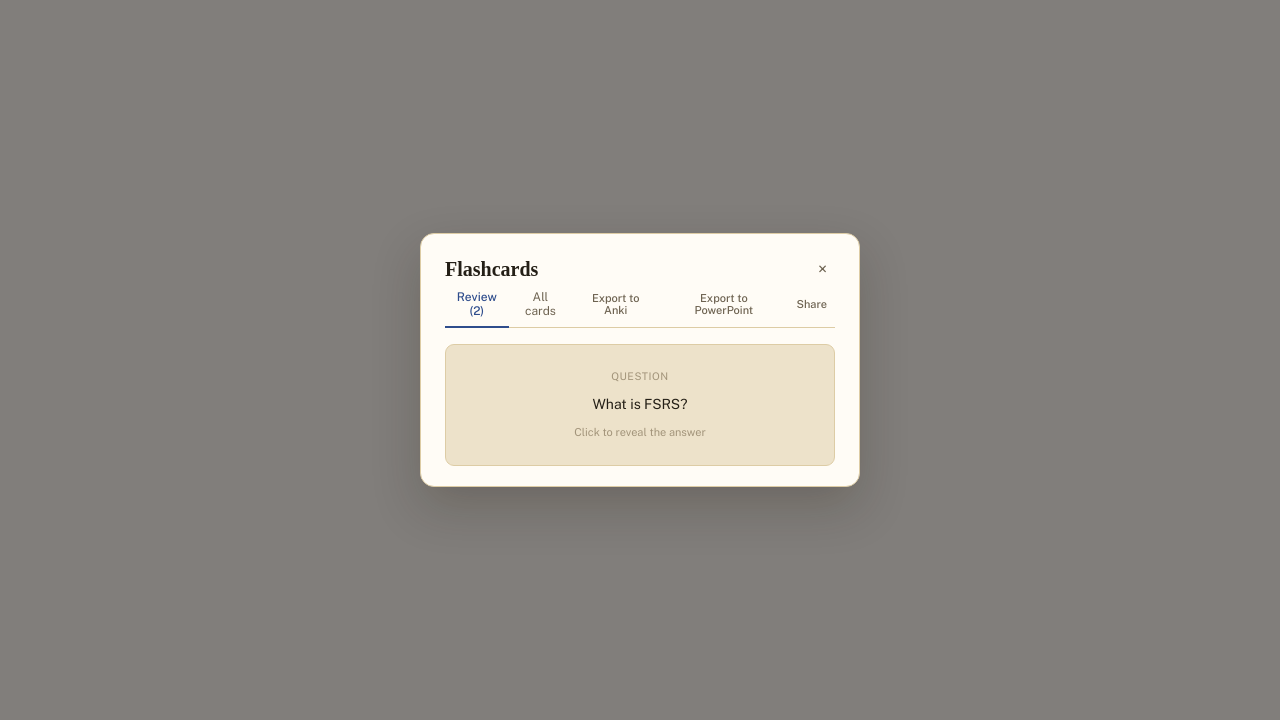
Test: FlashcardsPanel › the All cards tab lists every card regardless of due date, and delete removes it
Expected: the text "What is FSRS?" is shown, [592,393,688,416]
Click the button "All cards": (540, 306) [513,284,568,328]
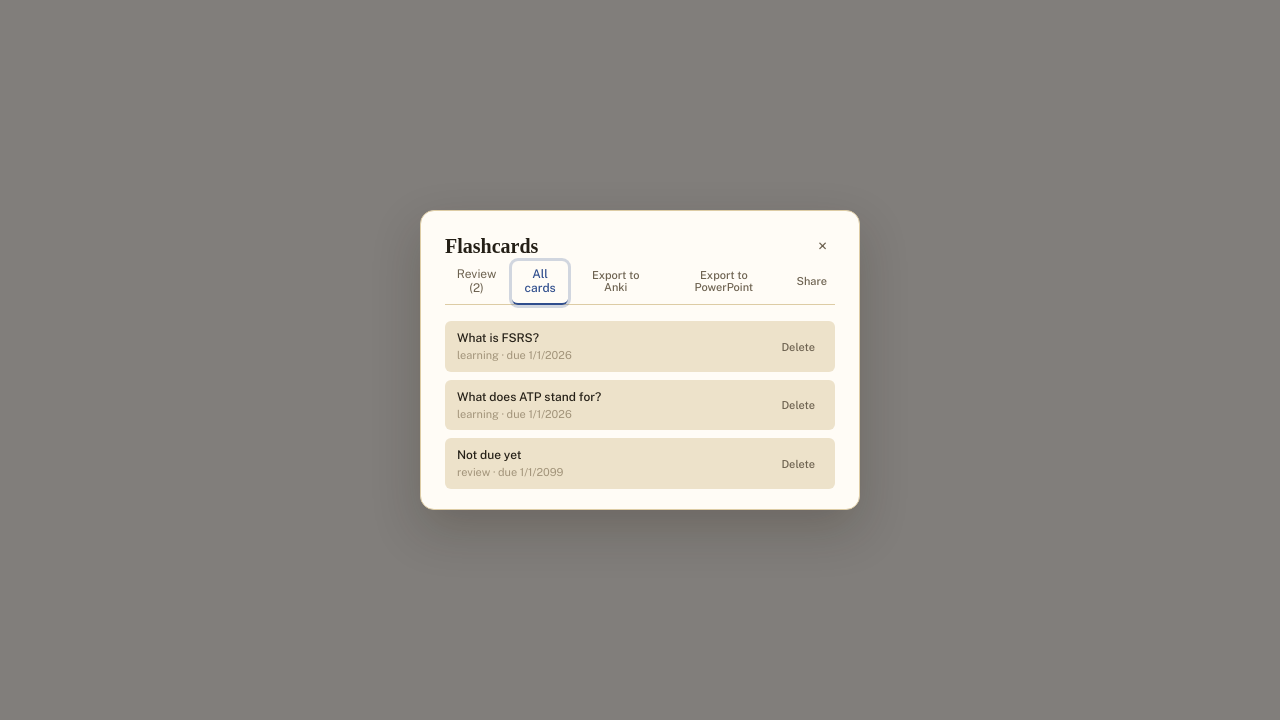
Expected: the text "What is FSRS?" is shown, [457,331,539,345]
Now the text "Not due yet" is shown, box [457,448,522,462]
Click the button with aria-label "delete flashcard: not due yet": (798, 464) [773,454,823,474]
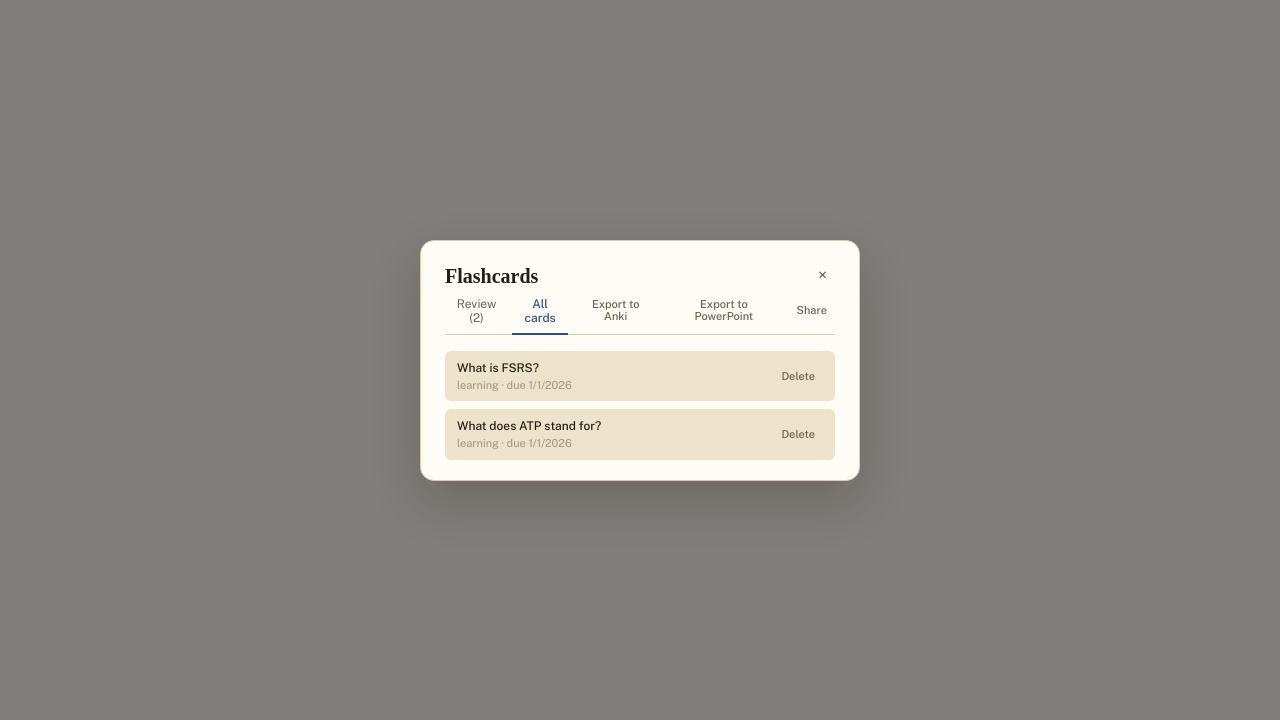
Now the text "Not due yet" is gone
